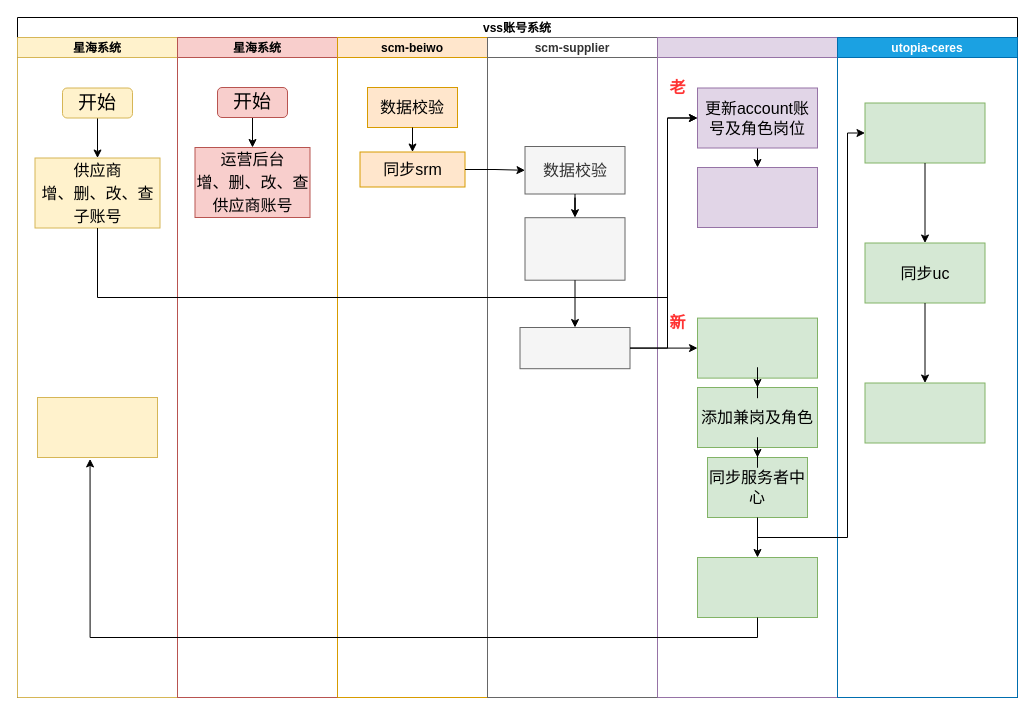
The diagram is 1035 pixels wide and 715 high, and some of its shapes have lost their labels. The shapes that lost their labels are listed below. From the top down, each one's box as (x1, y1, x2, y2) in pixels, then its label:
(864, 102, 985, 163): 添加业务角色及账号
(696, 166, 818, 228): 读Apollo权限配置
(524, 217, 625, 280): srm本地数据更新
(519, 326, 630, 369): 同步vss
(656, 36, 838, 698): vss
(696, 317, 818, 378): 组织状态校验
(36, 396, 158, 458): 权限点
(864, 382, 985, 443): 同步新权限系统
(696, 556, 818, 618): 新权限系统 获取权限点
